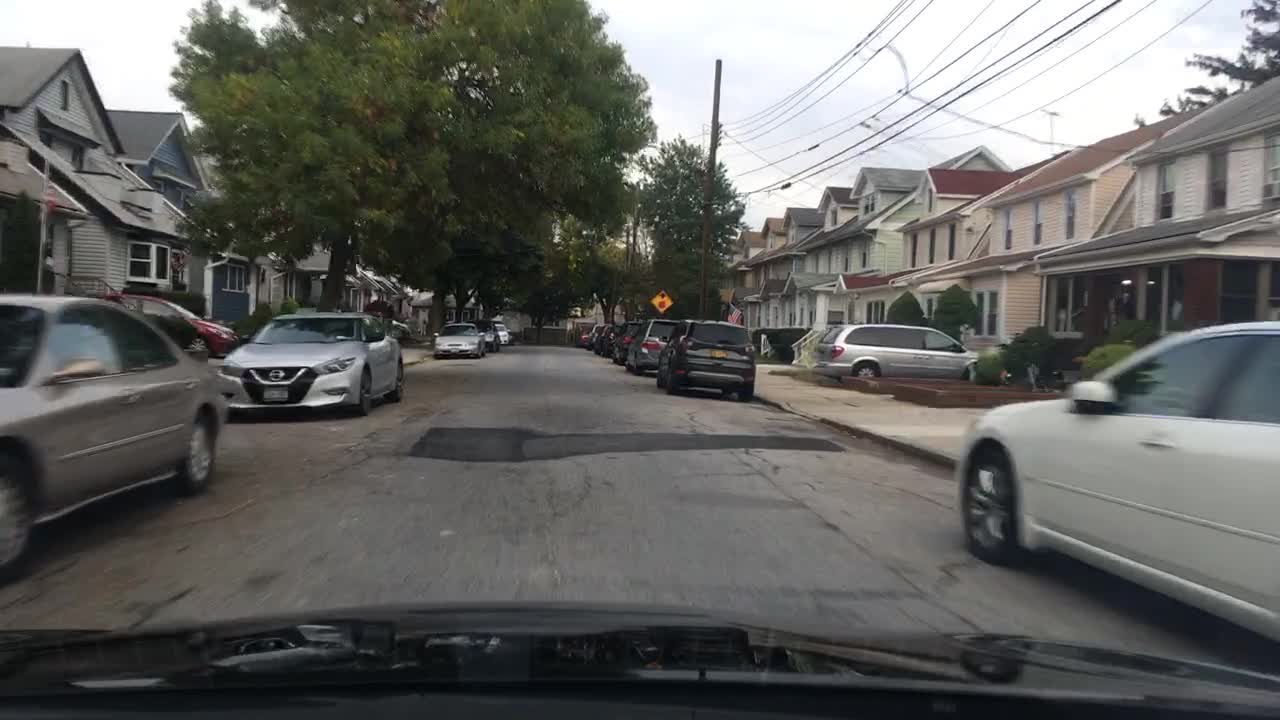car: (954, 320, 1277, 642), (0, 293, 227, 580), (215, 310, 405, 415), (811, 321, 976, 385), (81, 291, 239, 356), (655, 321, 754, 401), (625, 318, 681, 375), (431, 321, 486, 359), (610, 320, 643, 366), (590, 321, 622, 356), (369, 316, 412, 341), (470, 320, 501, 353), (580, 323, 606, 351), (494, 321, 509, 346)
traffic sign: (652, 290, 673, 311), (43, 187, 57, 209)
